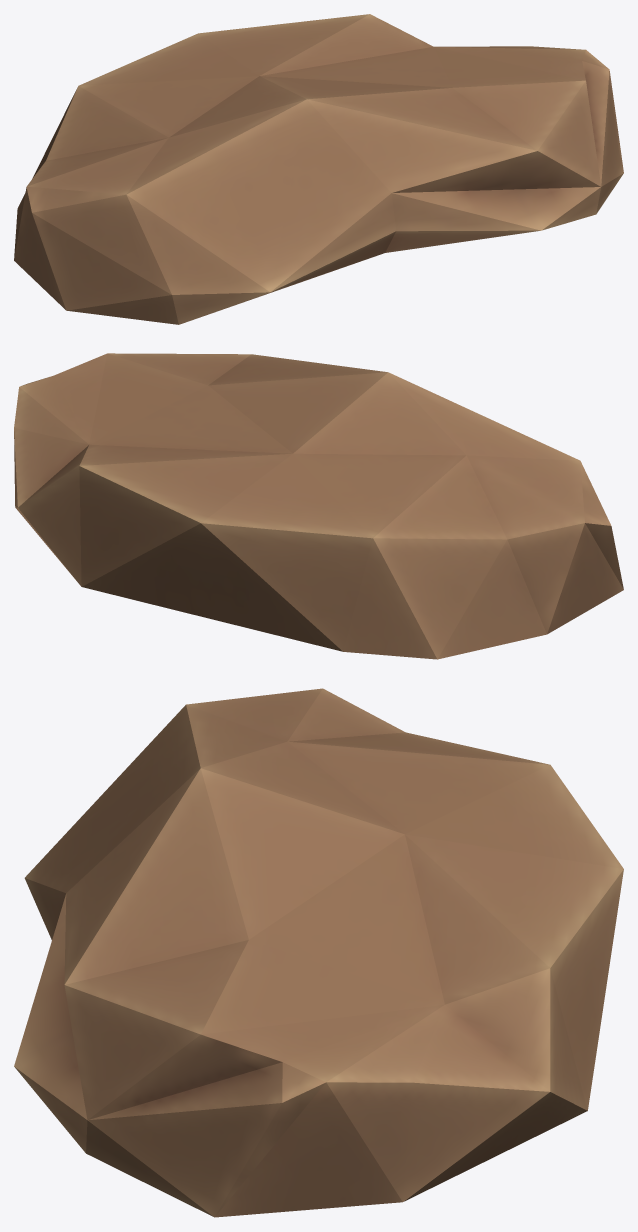
File: Rock_11.fbx
3 renders of one model, top to bottom at view 1: azimuth 30°, elevation 25°; view 2: azimuth 150°, elevation 25°; view 3: azimuth 270°, elevation 25°, orthographic. The views are drawn at different scales.
Parts seen in each view (by area): view 1: Rock_11; view 2: Rock_11; view 3: Rock_11.
Boxes of the visible parts, box(x1,y1,x2,y2) form: Rock_11: box(14, 14, 623, 324); Rock_11: box(14, 353, 623, 659); Rock_11: box(14, 688, 623, 1217).
Bounding box in the file's own units: 43.49 × 11.19 × 27.63.
